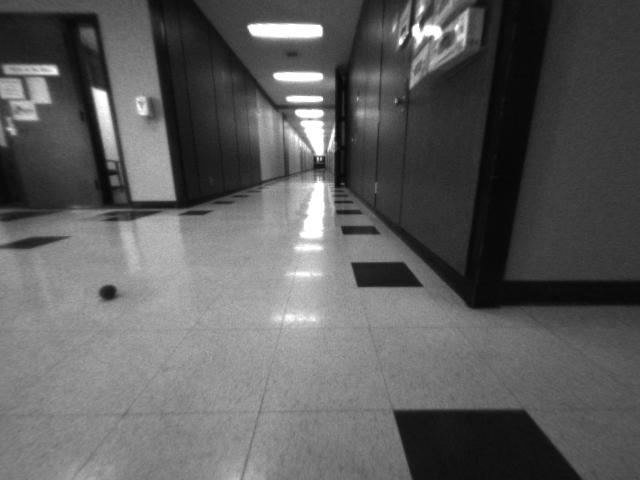dogtoy: (86, 269, 132, 307)
